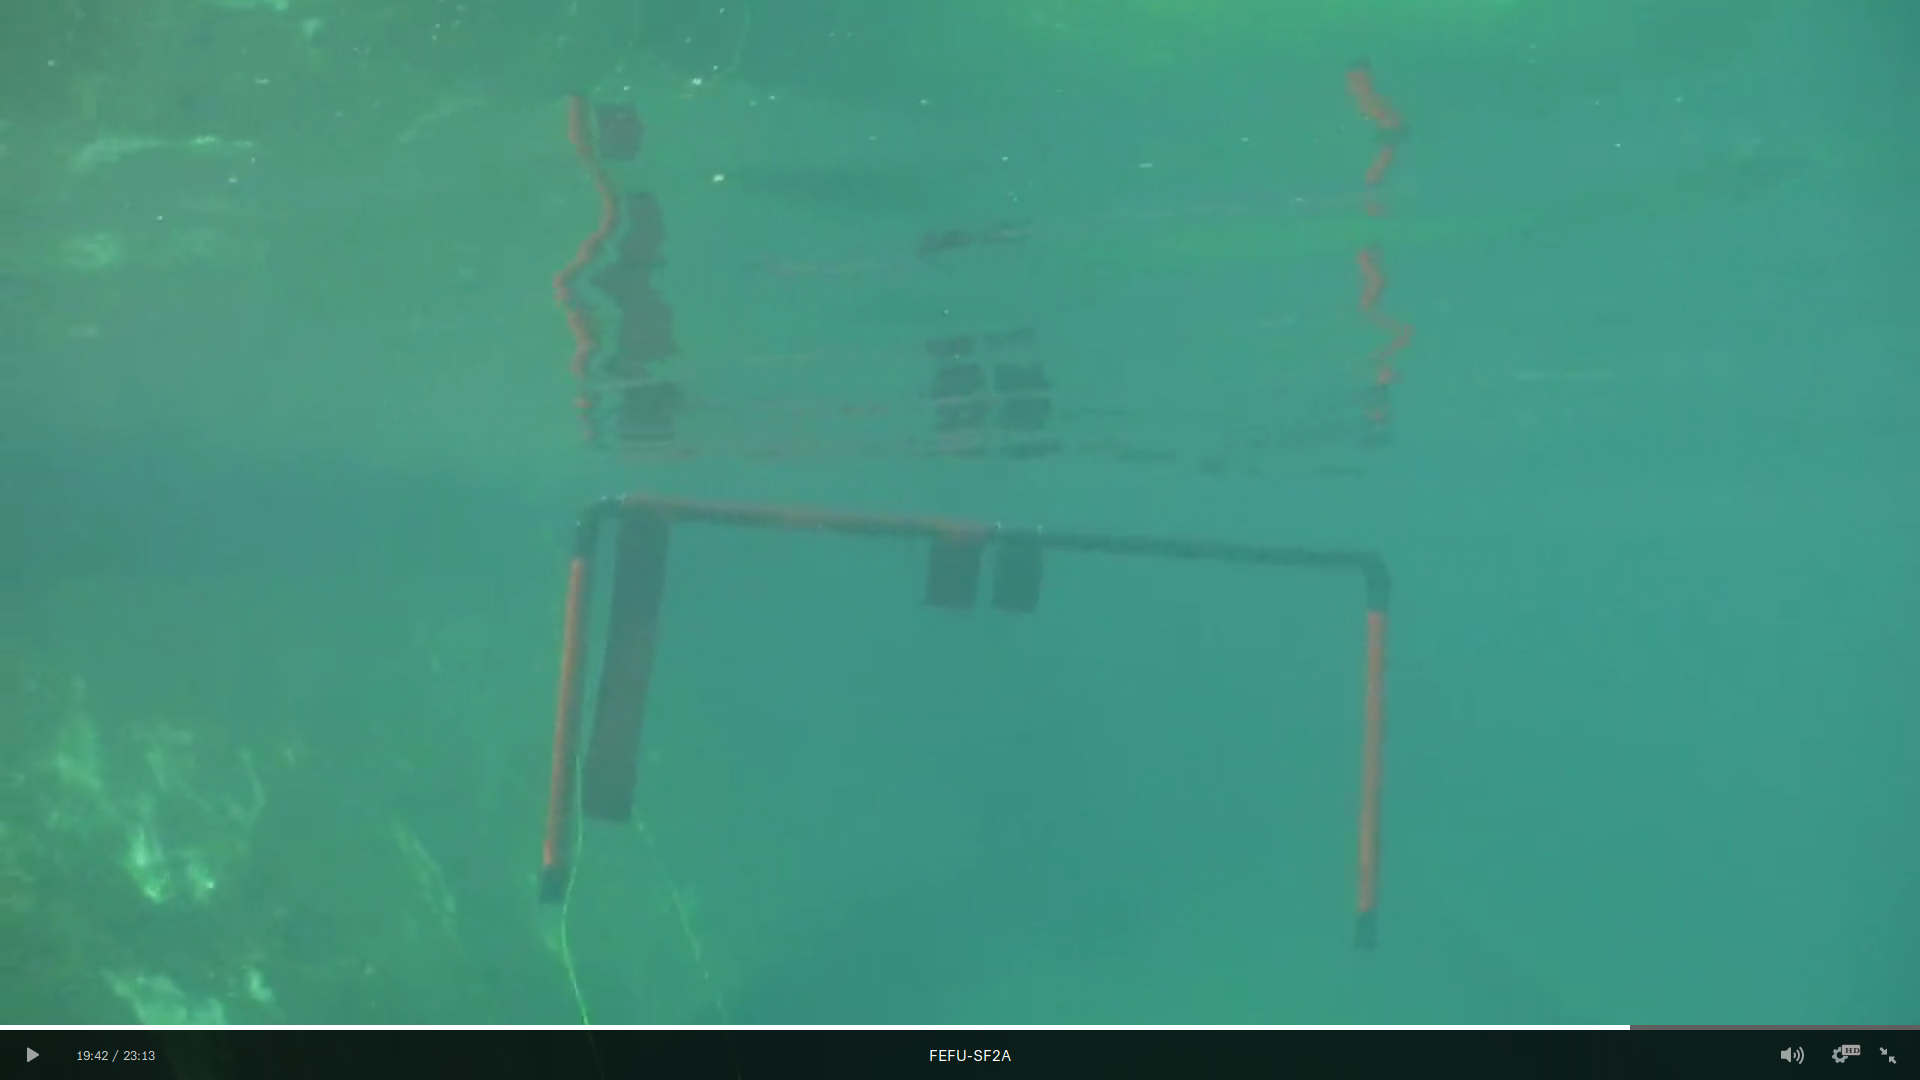gate: (518, 465, 1403, 959)
